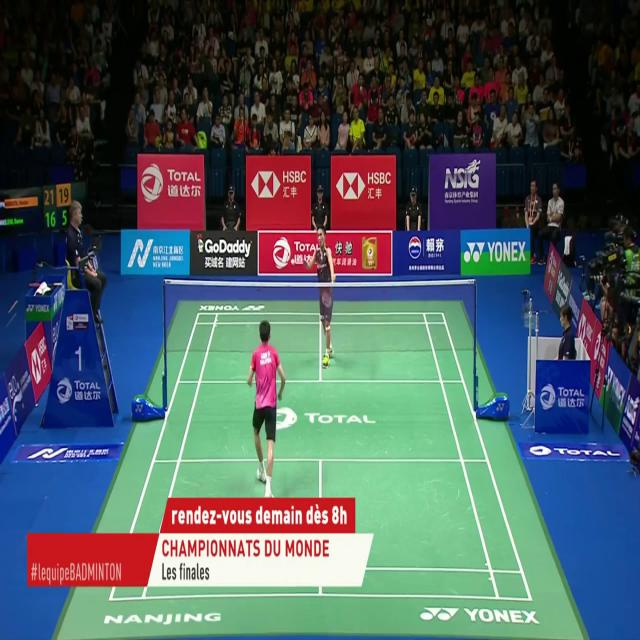Shuttlecock: (290, 255, 296, 266)
